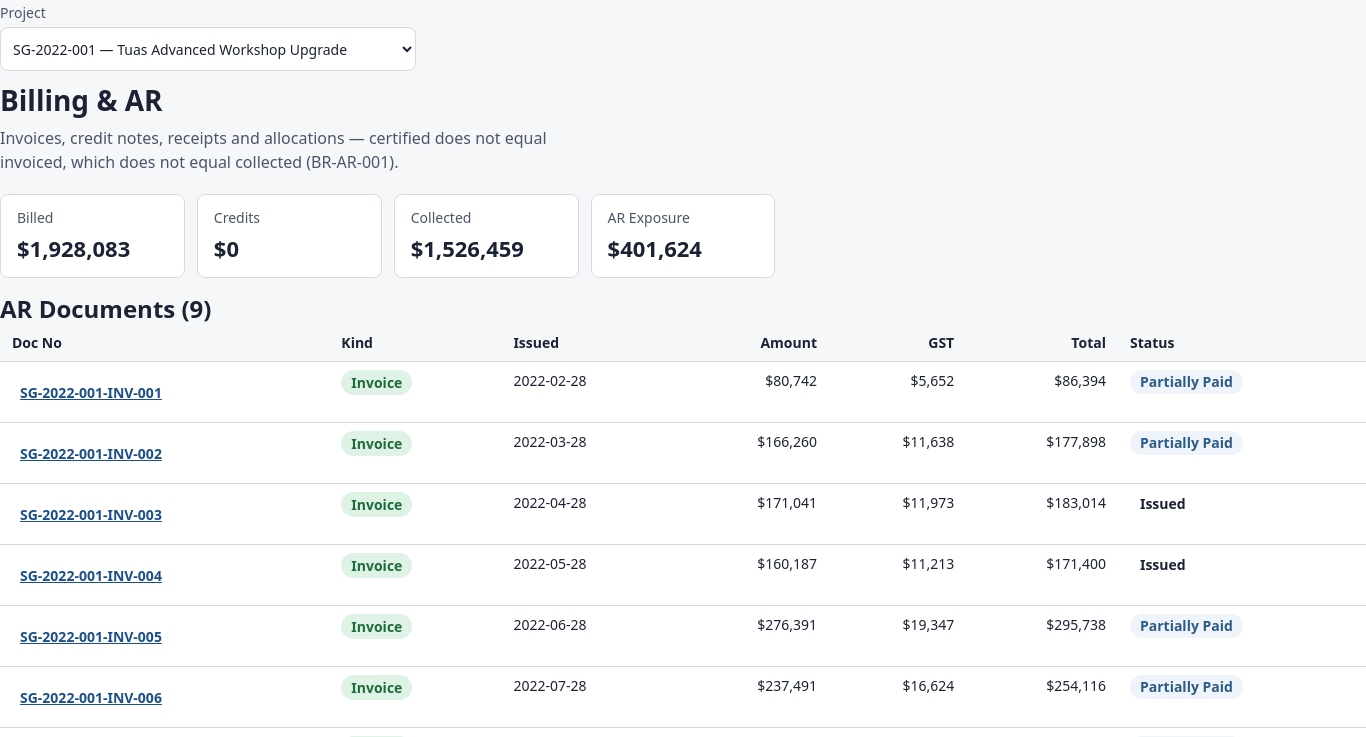
it: BillingArView (TASK-009) › opens an invoice detail with receipts and allocations
Click the button "SG-2022-001-INV-001".
click(91, 392)  # box x1=12 y1=370 x2=170 y2=414
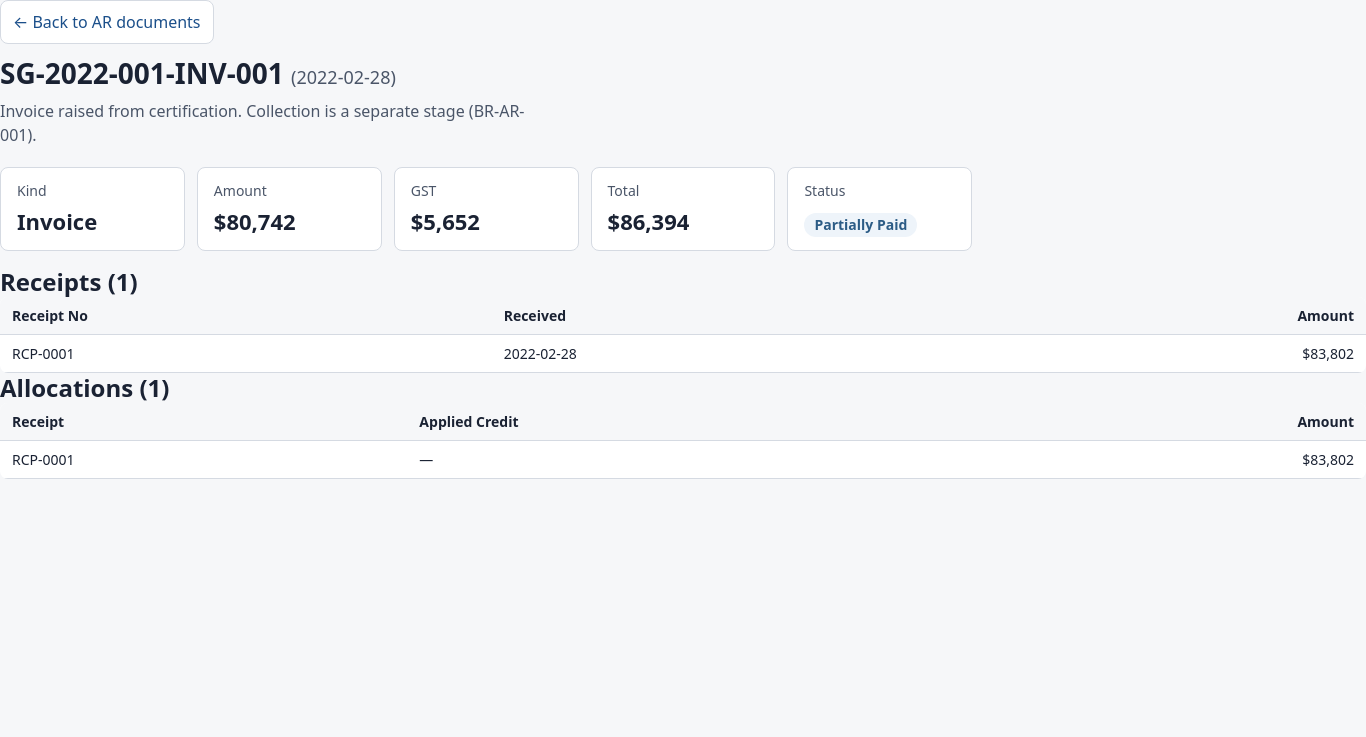
Check: the heading "Receipts (1)" is shown, box x1=0 y1=265 x2=138 y2=298
Check: the heading "Allocations (1)" is shown, box x1=0 y1=371 x2=169 y2=404
